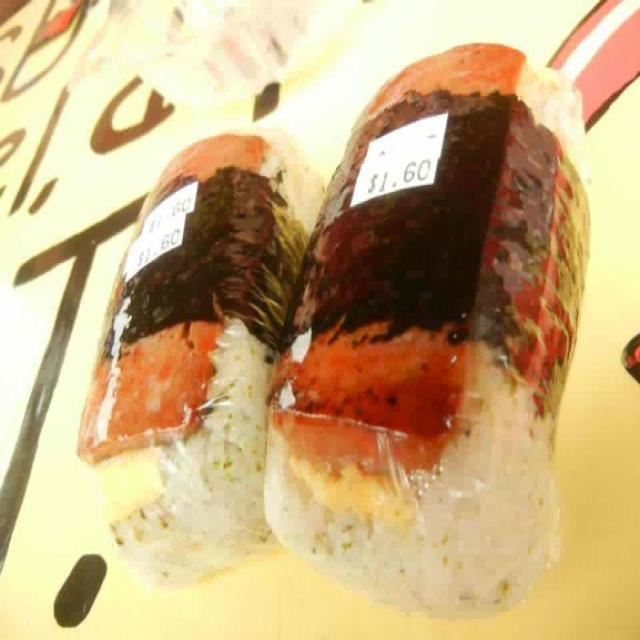寿司卷物: (70, 37, 603, 604)
